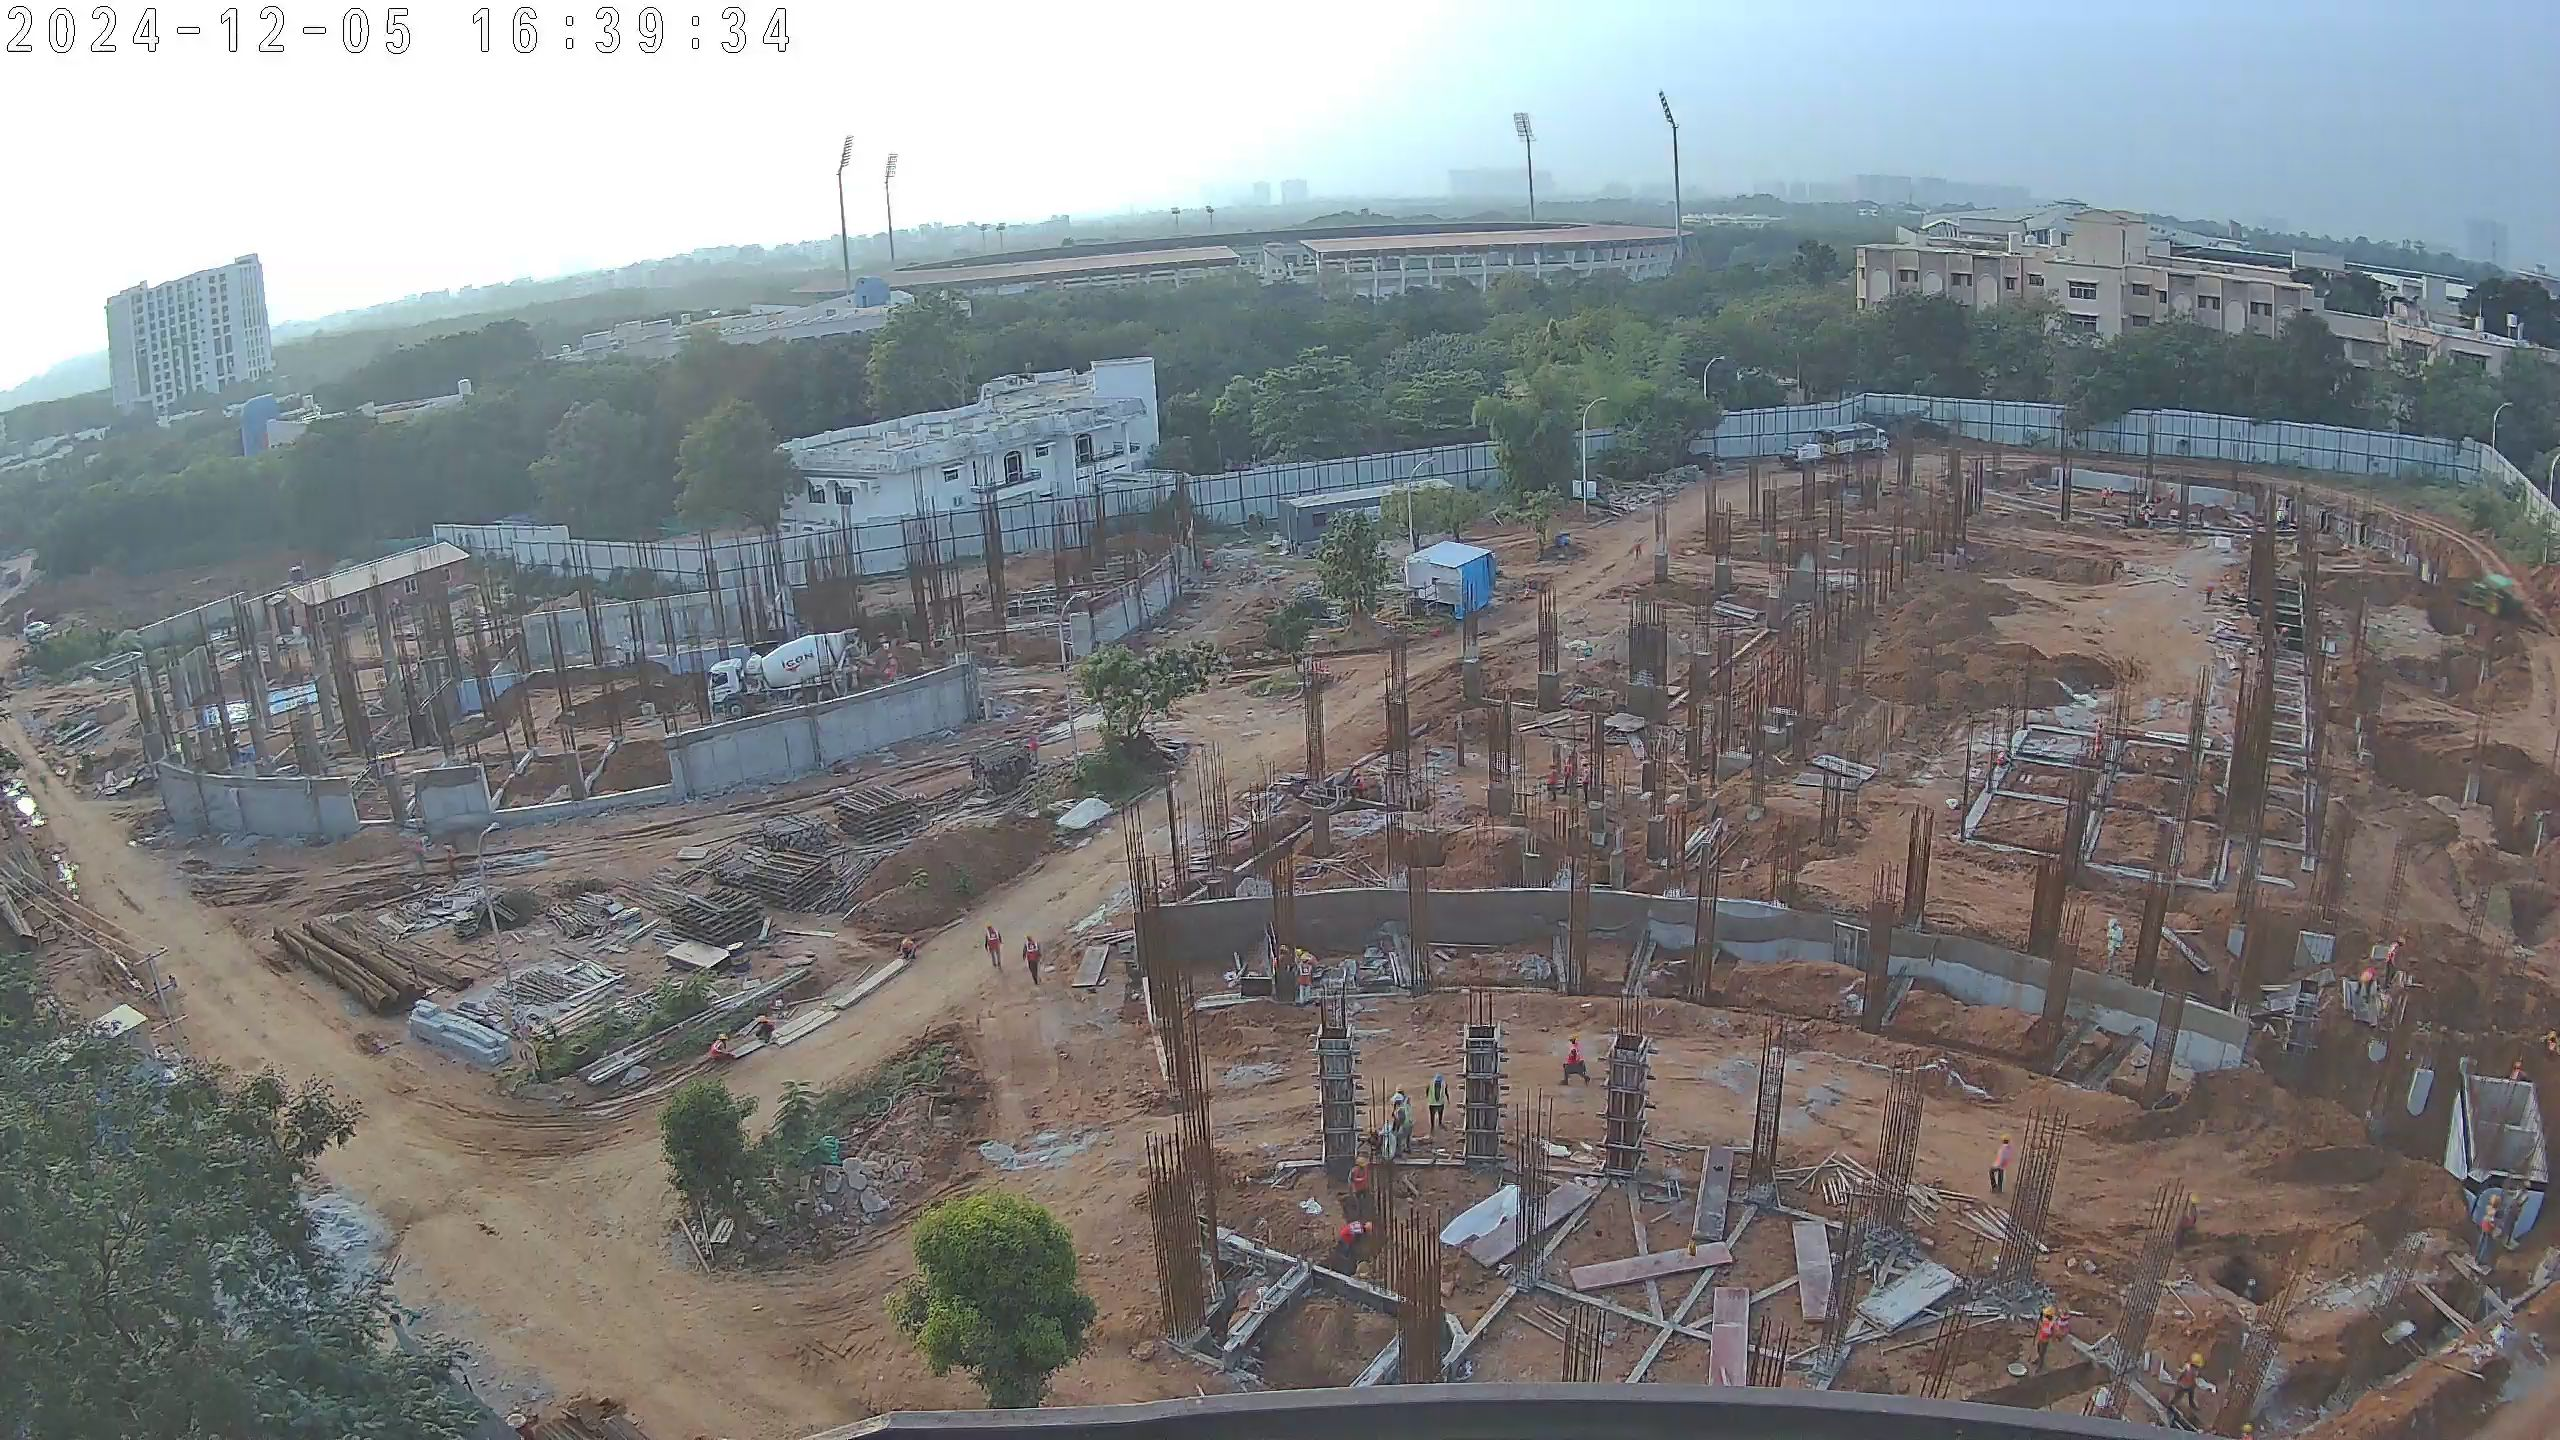truck: (700, 624, 879, 735), (2469, 1182, 2508, 1268), (1378, 1090, 1415, 1161), (1331, 1217, 1383, 1263), (1389, 1080, 1418, 1153), (2379, 933, 2406, 994), (2351, 961, 2378, 1009), (2503, 1049, 2531, 1093)
worker: (2170, 1349, 2210, 1425), (1016, 933, 1056, 995), (1556, 1027, 1589, 1095), (1424, 1074, 1456, 1141), (1985, 1131, 2016, 1200), (1347, 1156, 1379, 1220), (1340, 760, 1379, 812), (2029, 1299, 2054, 1372), (699, 1027, 738, 1072), (981, 920, 1008, 981), (1270, 938, 1296, 991), (1295, 952, 1318, 1010), (1290, 945, 1323, 984), (1558, 747, 1581, 799), (2088, 717, 2110, 766), (752, 1013, 781, 1048), (1021, 732, 1046, 771), (892, 934, 922, 966), (1575, 761, 1595, 808), (1542, 761, 1561, 808), (881, 650, 902, 691), (1994, 749, 2016, 776), (2202, 579, 2220, 611), (2166, 483, 2179, 509), (2098, 486, 2109, 512), (2138, 499, 2149, 524), (2105, 481, 2115, 504)
